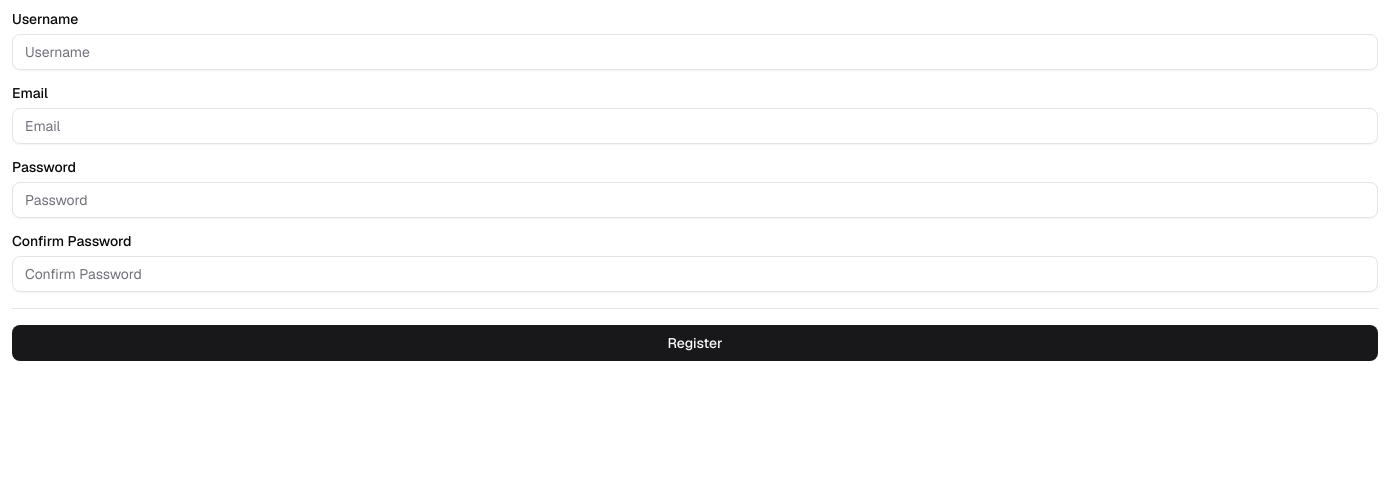
Scenario: RegisterForm - Integration Tests › handles form validation errors
// Try to submit empty form
Click the button "Register". click: (695, 343)
box: [12,325,1378,361]
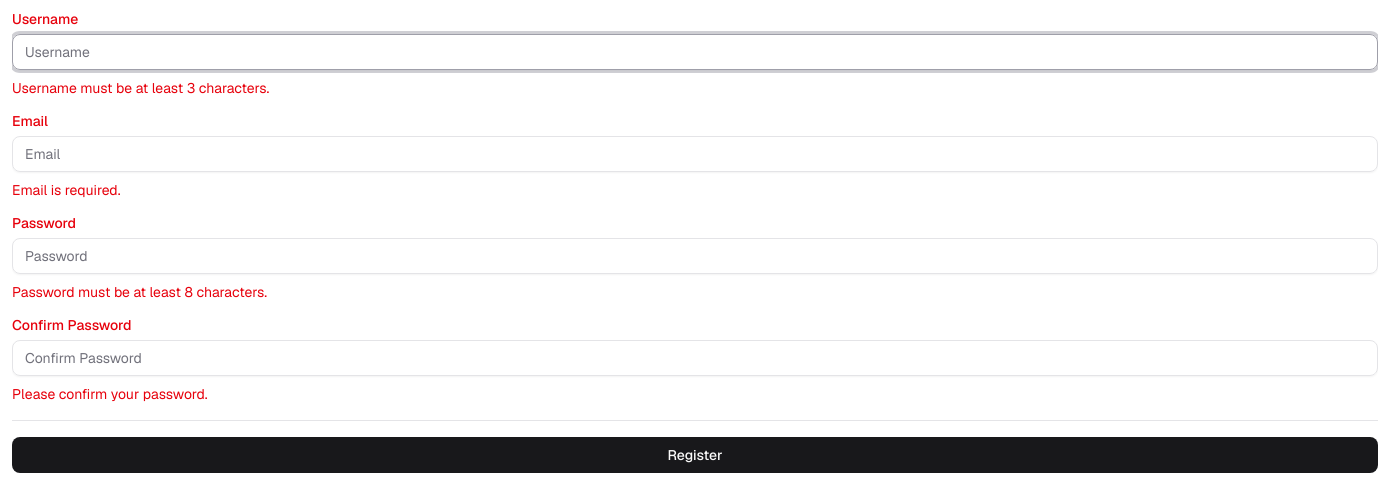
Check: the text "Username must be at least 3 characters." is shown, box [12,79,269,97]
Check: the text "Email is required." is shown, box [12,181,120,199]
Check: the text "Password must be at least 8 characters." is shown, box [12,283,267,301]
